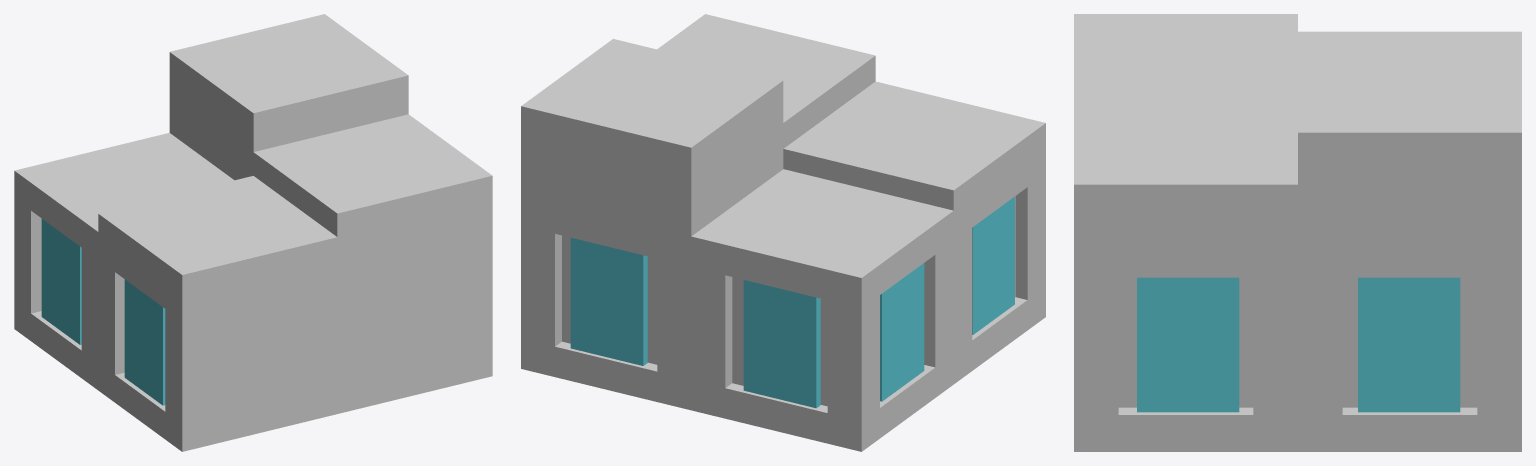
Rendered from SmallHouseTop.fbx.
3 views of the same model, side by side, from view 1: azimuth 30°, elevation 25°; view 2: azimuth 150°, elevation 25°; view 3: azimuth 270°, elevation 25° (orthographic). The views are drawn at different scales.
Parts seen in each view (by area): view 1: pCube76, pCube77; view 2: pCube76, pCube77; view 3: pCube76, pCube77.
Boxes of the visible parts, <box> form: pCube76: <box>14,14,492,451</box>; pCube77: <box>41,219,165,405</box>; pCube76: <box>521,14,1045,451</box>; pCube77: <box>570,196,1014,408</box>; pCube76: <box>1074,14,1521,451</box>; pCube77: <box>1137,277,1460,412</box>.
Bounding box in the file's own units: 10.26 × 7.56 × 9.61.
